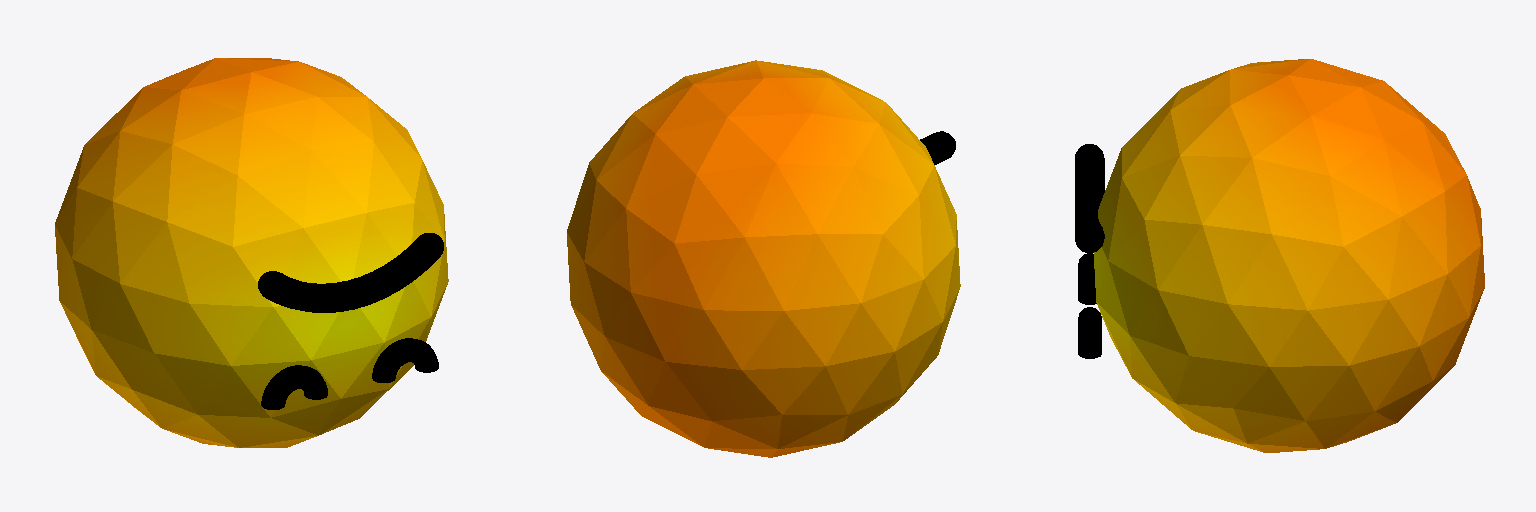
3 views of the same model, side by side, from view 1: azimuth 30°, elevation 25°; view 2: azimuth 150°, elevation 25°; view 3: azimuth 270°, elevation 25° (orthographic).
Visible parts, largest first — view 1: GeoSphere004, Capsule004, Torus008, Torus007; view 2: GeoSphere004, Capsule004; view 3: GeoSphere004, Capsule004, Torus007, Torus008.
Boxes of the visible parts, <box> form: GeoSphere004: <box>55,58,448,447</box>; Capsule004: <box>258,233,443,312</box>; Torus008: <box>261,365,327,409</box>; Torus007: <box>372,338,438,382</box>; GeoSphere004: <box>567,60,960,457</box>; Capsule004: <box>920,131,955,164</box>; GeoSphere004: <box>1094,59,1484,452</box>; Capsule004: <box>1075,144,1104,253</box>; Torus007: <box>1078,307,1101,358</box>; Torus008: <box>1078,253,1096,304</box>.
Bounding box in the file's own units: 34.35 × 34.95 × 35.96.
2 materials, 1 textured.